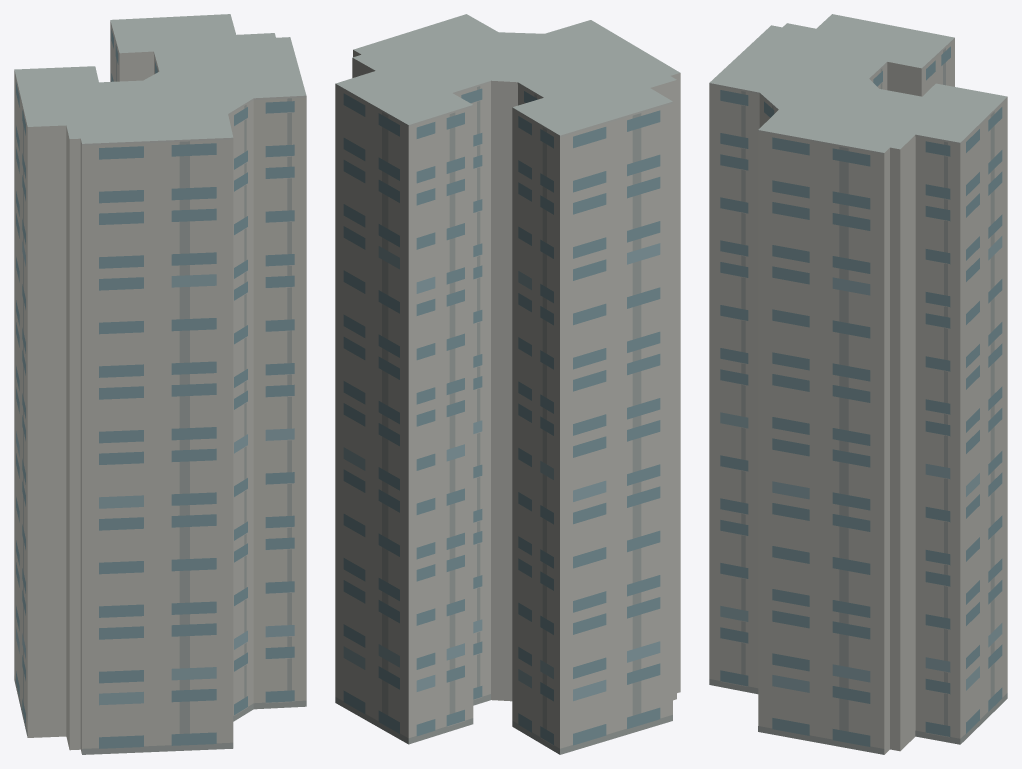
The model's file is residential-1c057ecc-1454-4505-a515-6687c7e787db.glb.
The picture shows the model from 3 angles, left to right: view 1: azimuth 30°, elevation 25°; view 2: azimuth 150°, elevation 25°; view 3: azimuth 270°, elevation 25°; orthographic projection. The views are drawn at different scales.
Visible parts, largest first — view 1: residential-1c057ecc-1454-4505-a515-6687c7e787db.tmp; view 2: residential-1c057ecc-1454-4505-a515-6687c7e787db.tmp; view 3: residential-1c057ecc-1454-4505-a515-6687c7e787db.tmp.
Boxes of the visible parts, box(x1,y1,x2,y2) form: residential-1c057ecc-1454-4505-a515-6687c7e787db.tmp: box(14, 14, 306, 754); residential-1c057ecc-1454-4505-a515-6687c7e787db.tmp: box(335, 14, 680, 754); residential-1c057ecc-1454-4505-a515-6687c7e787db.tmp: box(709, 14, 1007, 754).
Bounding box in the file's own units: 38.64 × 78 × 35.07.
